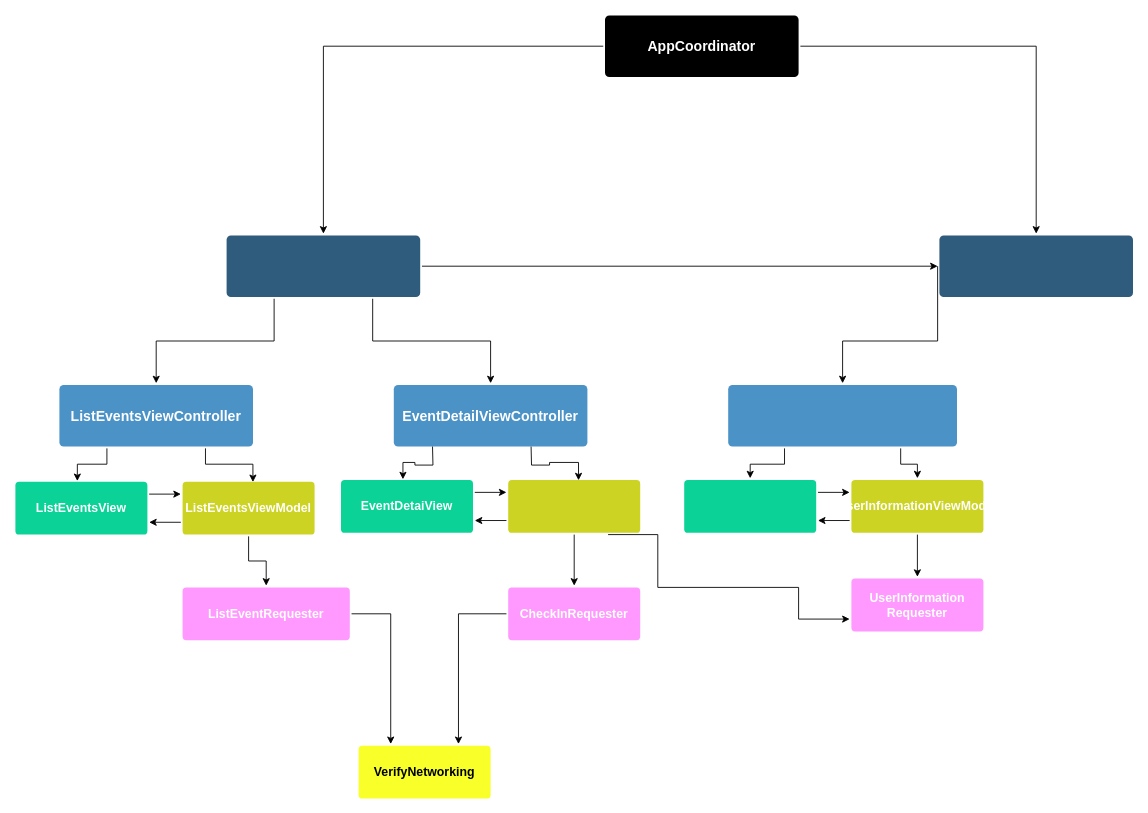
This 1148x813 diagram has some shape labels left out. Each missing label, with the centre of its shape:
EventDetailViewModel: the point at 574,506
EventsCoordinator: the point at 323,266
UserInformationCoordinator: the point at 1036,266
UserInformationView: the point at 750,506
UserInformationViewController: the point at 842,415
